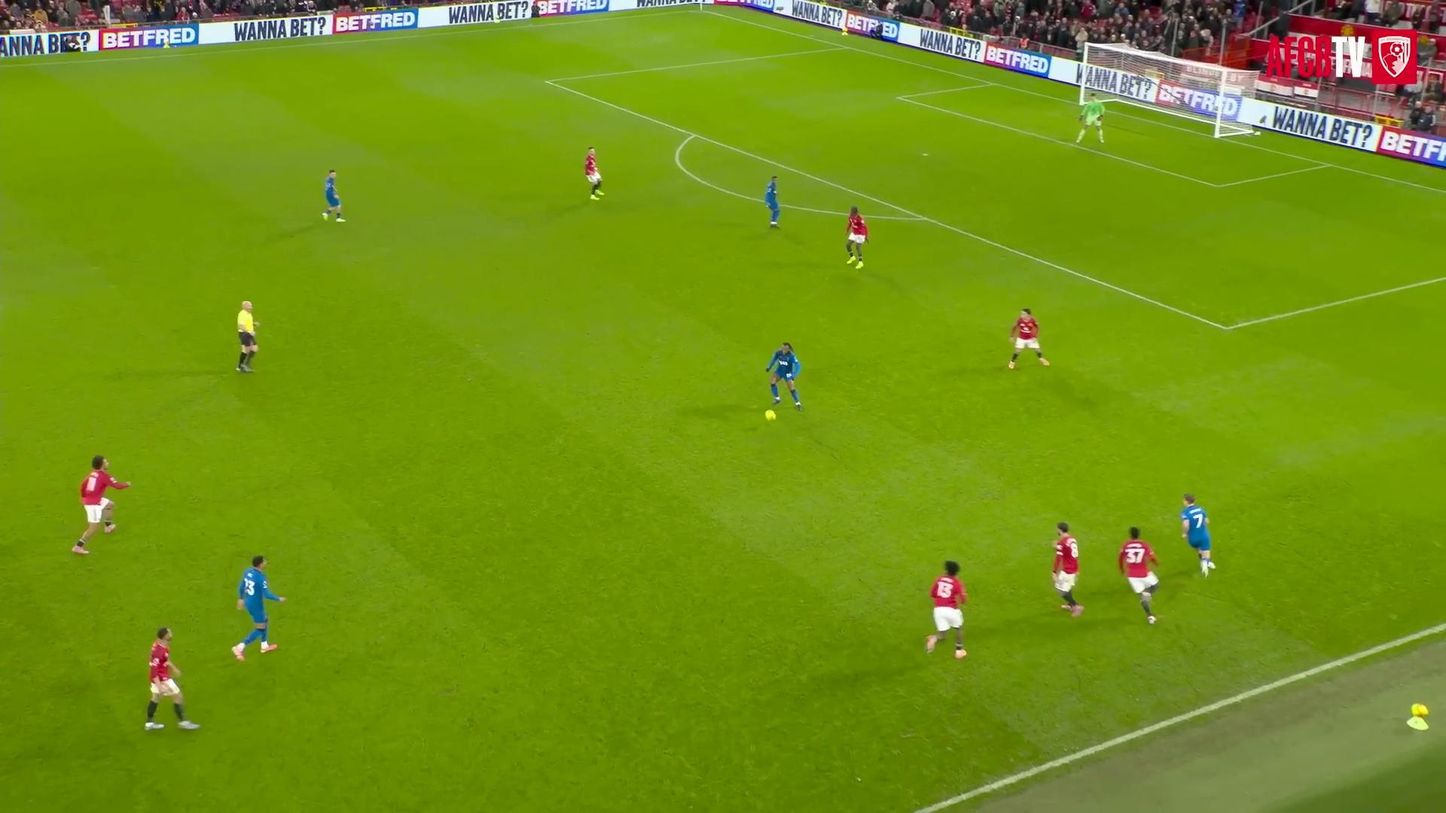football: (760, 406, 787, 427)
player: (72, 455, 130, 554), (145, 627, 200, 730), (232, 556, 285, 659), (926, 561, 966, 658), (1118, 527, 1158, 623), (1053, 522, 1083, 617), (1182, 494, 1214, 576), (765, 342, 802, 410), (1008, 309, 1048, 369), (1076, 93, 1103, 143), (847, 206, 868, 269), (322, 170, 343, 222), (584, 147, 603, 199), (764, 176, 779, 227)
referee: (236, 301, 259, 372)
